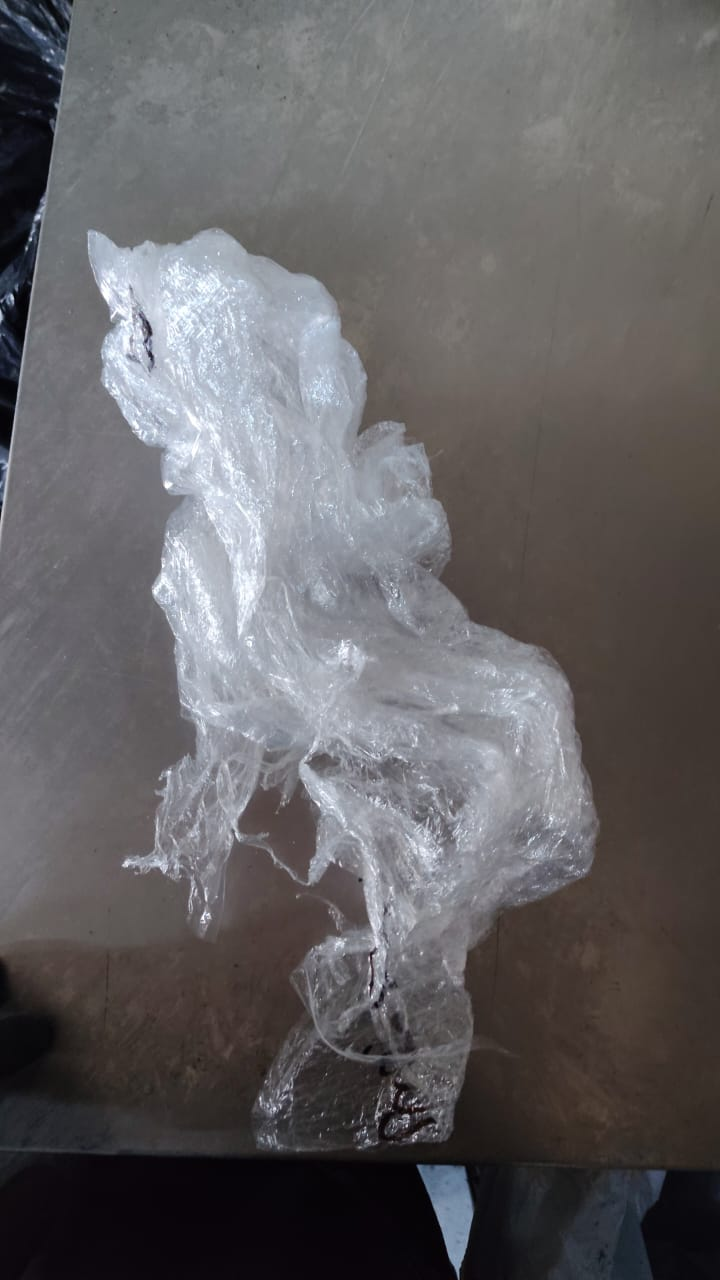Plastico: (80, 227, 602, 1151)
